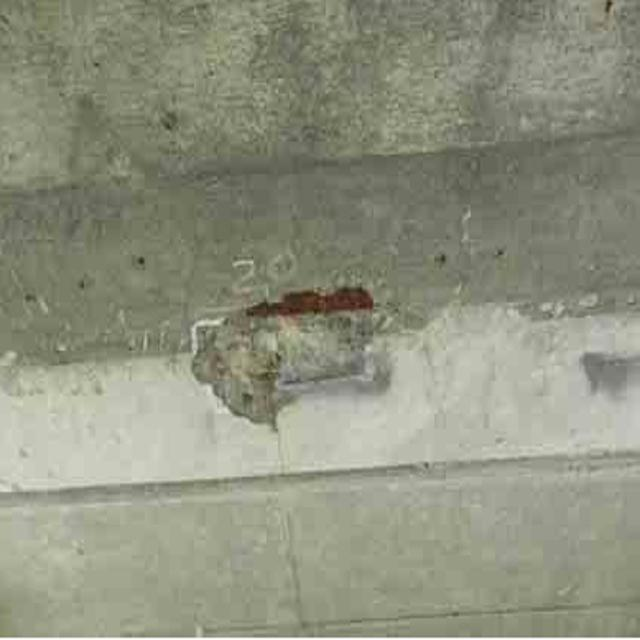spalling: (177, 232, 416, 417)
